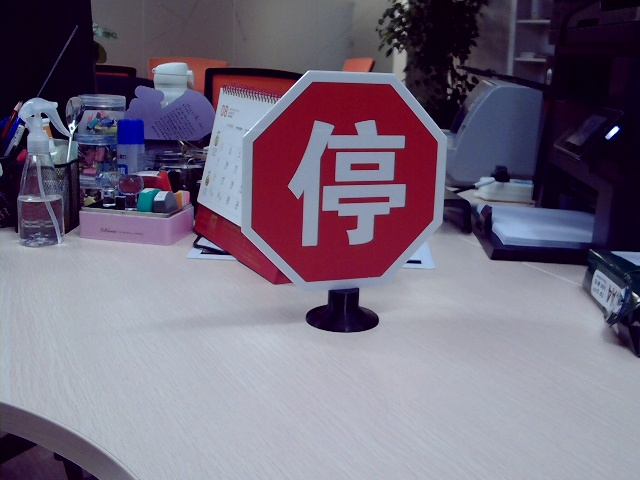stop: (289, 117, 406, 251)
